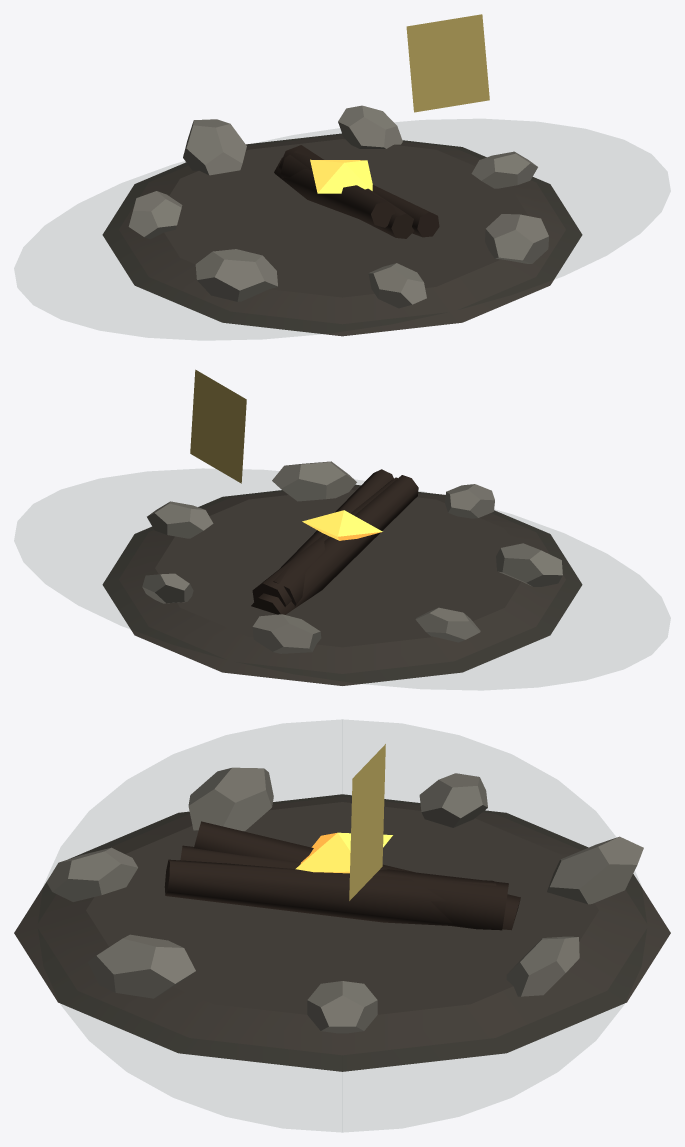
The model's file is old_camp_echo.glb.
3 renders of one model, top to bottom at view 1: azimuth 30°, elevation 25°; view 2: azimuth 150°, elevation 25°; view 3: azimuth 270°, elevation 25°, orthographic. The views are drawn at different scales.
Visible parts, largest first — view 1: old_camp_ash_patch, soft_ground_shadow, old_camp_torn_marker, old_camp_ring_stone_3, old_camp_ring_stone_5, old_camp_collapsed_log_0, old_camp_ring_stone_1, old_camp_ring_stone_6, old_camp_ring_stone_2, old_camp_ring_stone_4, old_camp_memory_coal, old_camp_ring_stone_0 (+2 smaller); view 2: old_camp_ash_patch, soft_ground_shadow, old_camp_torn_marker, old_camp_collapsed_log_0, old_camp_ring_stone_1, old_camp_ring_stone_3, old_camp_ring_stone_5, old_camp_collapsed_log_1, old_camp_ring_stone_0, old_camp_collapsed_log_2, old_camp_ring_stone_4, old_camp_ring_stone_2 (+2 smaller); view 3: old_camp_ash_patch, soft_ground_shadow, old_camp_collapsed_log_2, old_camp_collapsed_log_1, old_camp_ring_stone_1, old_camp_ring_stone_5, old_camp_ring_stone_3, old_camp_torn_marker, old_camp_ring_stone_2, old_camp_collapsed_log_0, old_camp_ring_stone_0, old_camp_ring_stone_6 (+2 smaller).
Boxes of the visible parts, <box> form: old_camp_ash_patch: <box>102,133,582,336</box>; soft_ground_shadow: <box>15,119,669,339</box>; old_camp_torn_marker: <box>406,14,489,112</box>; old_camp_ring_stone_3: <box>195,249,277,301</box>; old_camp_ring_stone_5: <box>183,119,246,175</box>; old_camp_collapsed_log_0: <box>274,157,395,227</box>; old_camp_ring_stone_1: <box>485,214,548,263</box>; old_camp_ring_stone_6: <box>338,105,402,148</box>; old_camp_ring_stone_2: <box>368,263,426,308</box>; old_camp_ring_stone_4: <box>128,191,182,239</box>; old_camp_memory_coal: <box>310,159,372,193</box>; old_camp_ring_stone_0: <box>471,151,537,188</box>; old_camp_ash_patch: <box>102,484,582,685</box>; soft_ground_shadow: <box>14,469,670,689</box>; old_camp_torn_marker: <box>190,369,246,483</box>; old_camp_collapsed_log_0: <box>251,475,418,614</box>; old_camp_ring_stone_1: <box>272,461,356,501</box>; old_camp_ring_stone_3: <box>496,543,562,586</box>; old_camp_ring_stone_5: <box>252,614,321,653</box>; old_camp_collapsed_log_1: <box>252,477,397,606</box>; old_camp_ring_stone_0: <box>147,501,213,538</box>; old_camp_collapsed_log_2: <box>273,469,393,606</box>; old_camp_ring_stone_4: <box>415,607,480,642</box>; old_camp_ring_stone_2: <box>445,484,494,518</box>; old_camp_ash_patch: <box>14,794,670,1071</box>; soft_ground_shadow: <box>39,720,645,1131</box>; old_camp_collapsed_log_2: <box>164,859,496,925</box>; old_camp_collapsed_log_1: <box>180,845,508,930</box>; old_camp_ring_stone_1: <box>88,934,195,998</box>; old_camp_ring_stone_5: <box>547,836,643,904</box>; old_camp_ring_stone_3: <box>188,767,273,831</box>; old_camp_torn_marker: <box>349,744,385,900</box>; old_camp_ring_stone_2: <box>46,847,137,901</box>; old_camp_collapsed_log_0: <box>194,821,520,930</box>; old_camp_ring_stone_0: <box>307,981,377,1033</box>; old_camp_ring_stone_6: <box>506,936,579,996</box>.
Bounding box in the file's own units: 3.12 × 0.9113 × 2.1.
